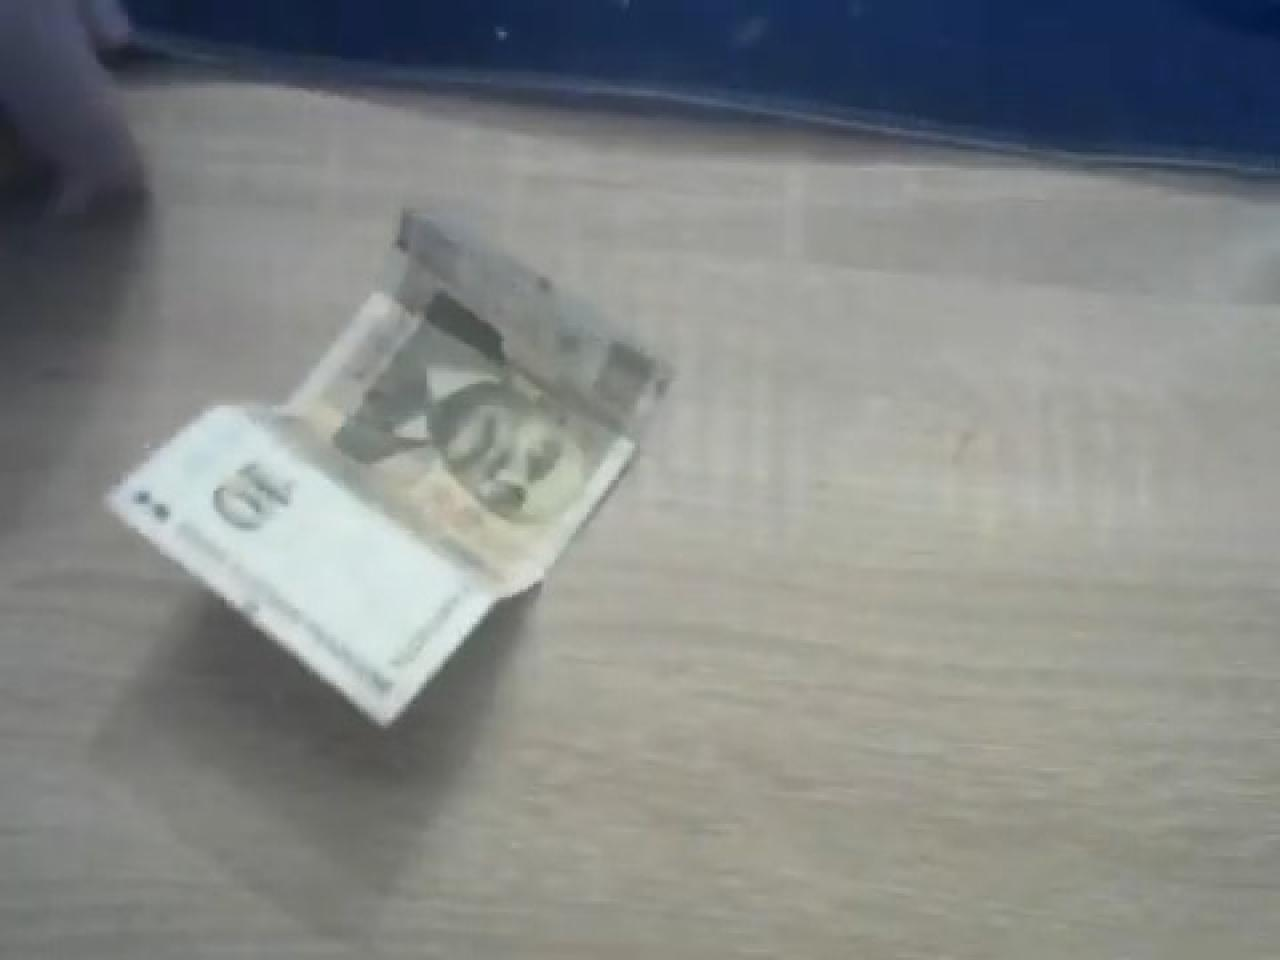10leva: (104, 214, 669, 731)
